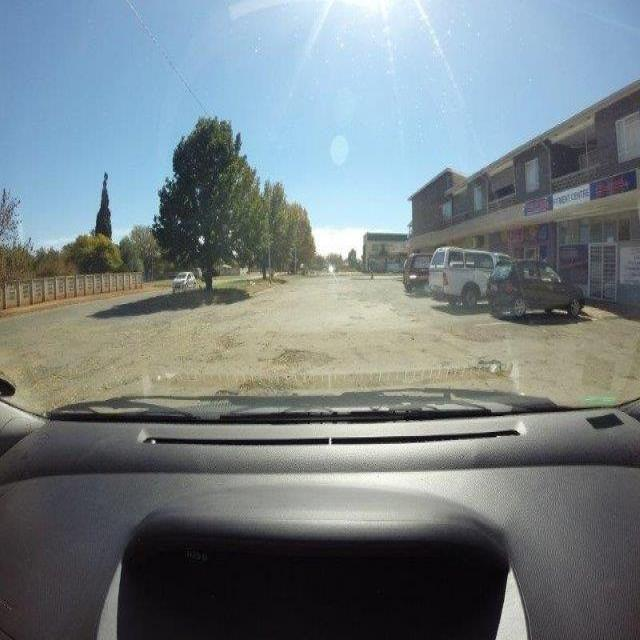jalan retak: (211, 322, 247, 362), (444, 360, 501, 379), (399, 327, 422, 343)
lubang: (265, 348, 339, 363), (236, 372, 285, 393), (475, 356, 506, 376)
